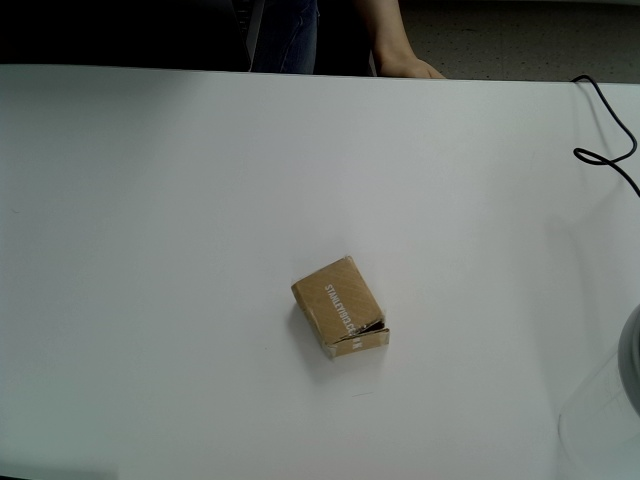defect: (290, 254, 391, 360)
